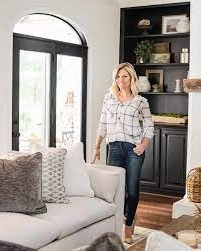not_fallen: (94, 59, 156, 244)
